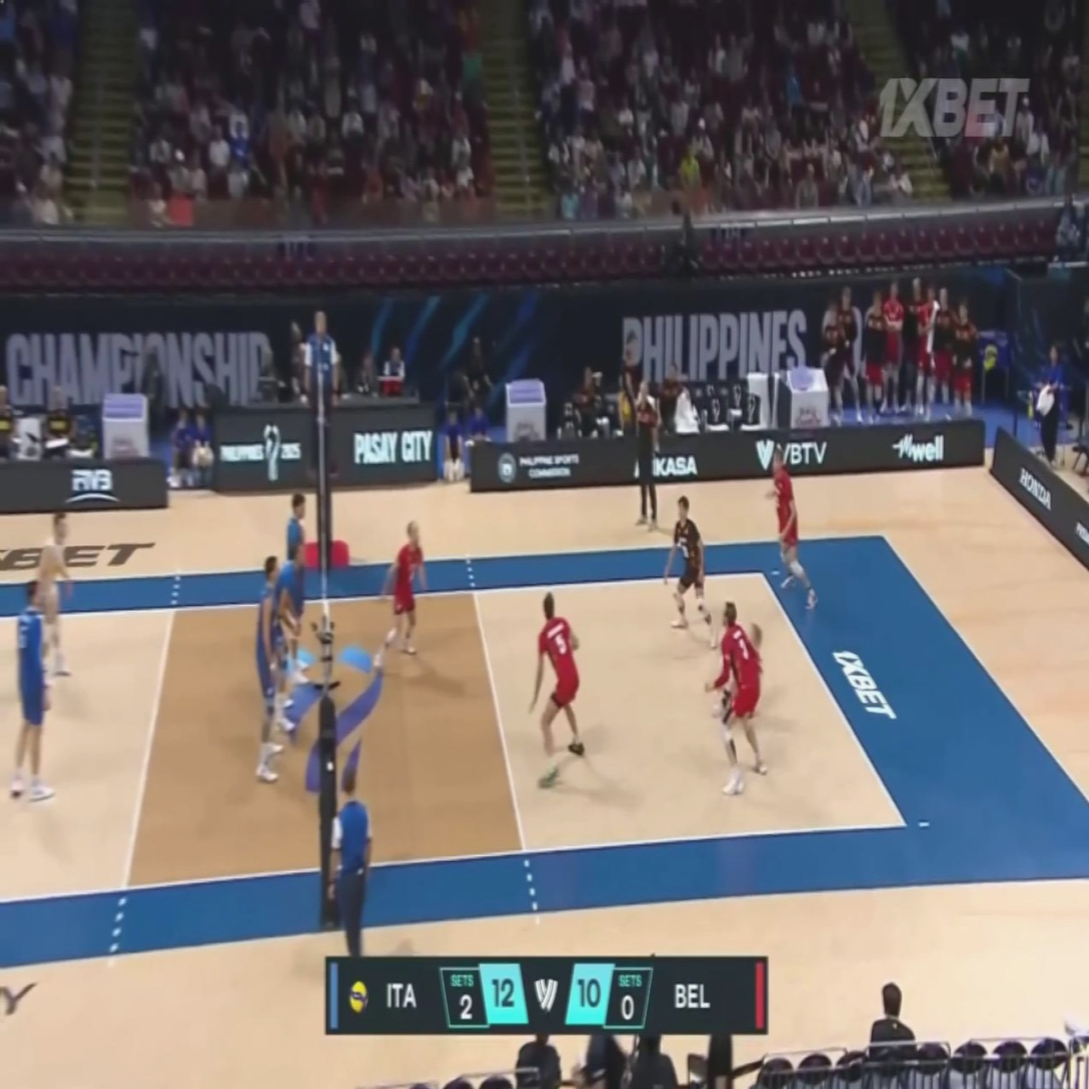ball: (618, 393, 630, 423)
